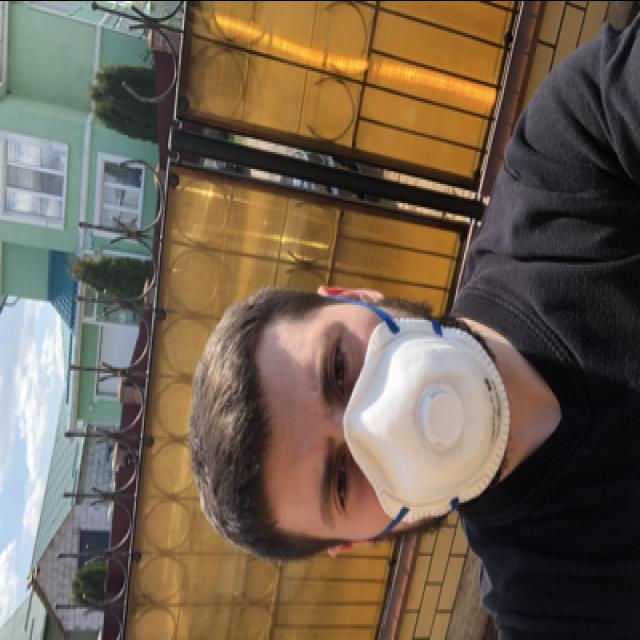mask: (288, 302, 512, 538)
